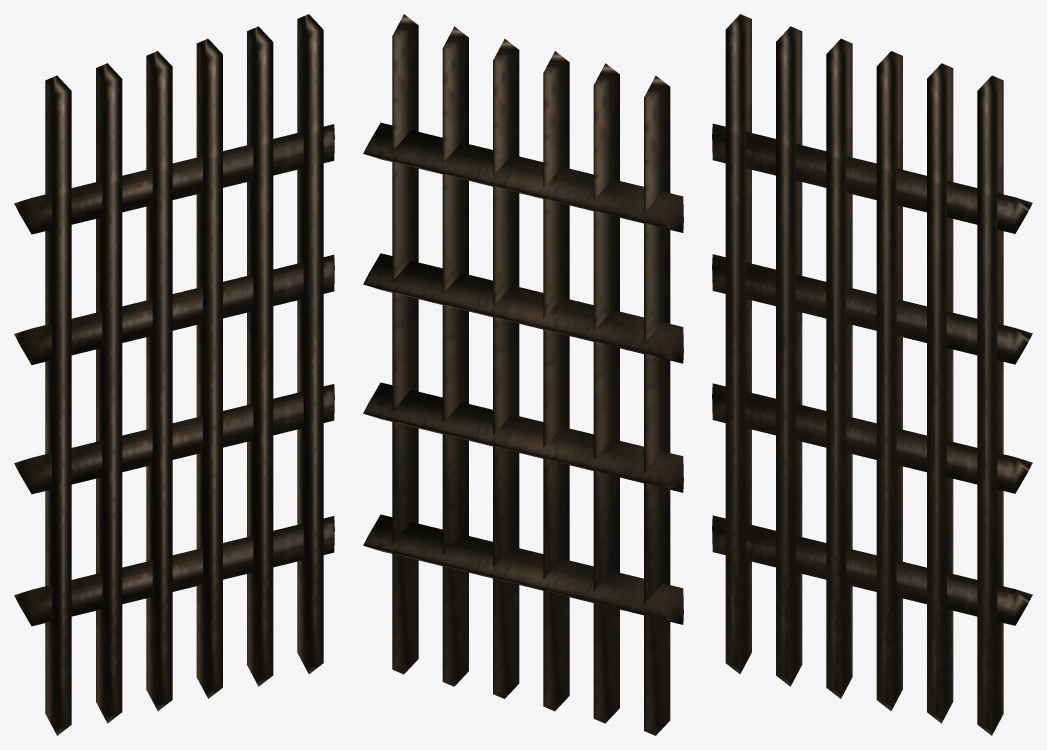
Rendered from stst38.dae.
The picture shows the model from 3 angles, left to right: view 1: azimuth 30°, elevation 25°; view 2: azimuth 150°, elevation 25°; view 3: azimuth 330°, elevation 25°; orthographic projection.
Visible parts, largest first — view 1: crownbars; view 2: crownbars; view 3: crownbars.
Boxes of the visible parts, left/top/right/bottom form: crownbars: left=14, top=14, right=334, bottom=735; crownbars: left=363, top=14, right=683, bottom=735; crownbars: left=712, top=14, right=1032, bottom=735.
Size of the model in its own units: 0.5485 by 0.0675 by 1.1.
1 material, 1 textured.
